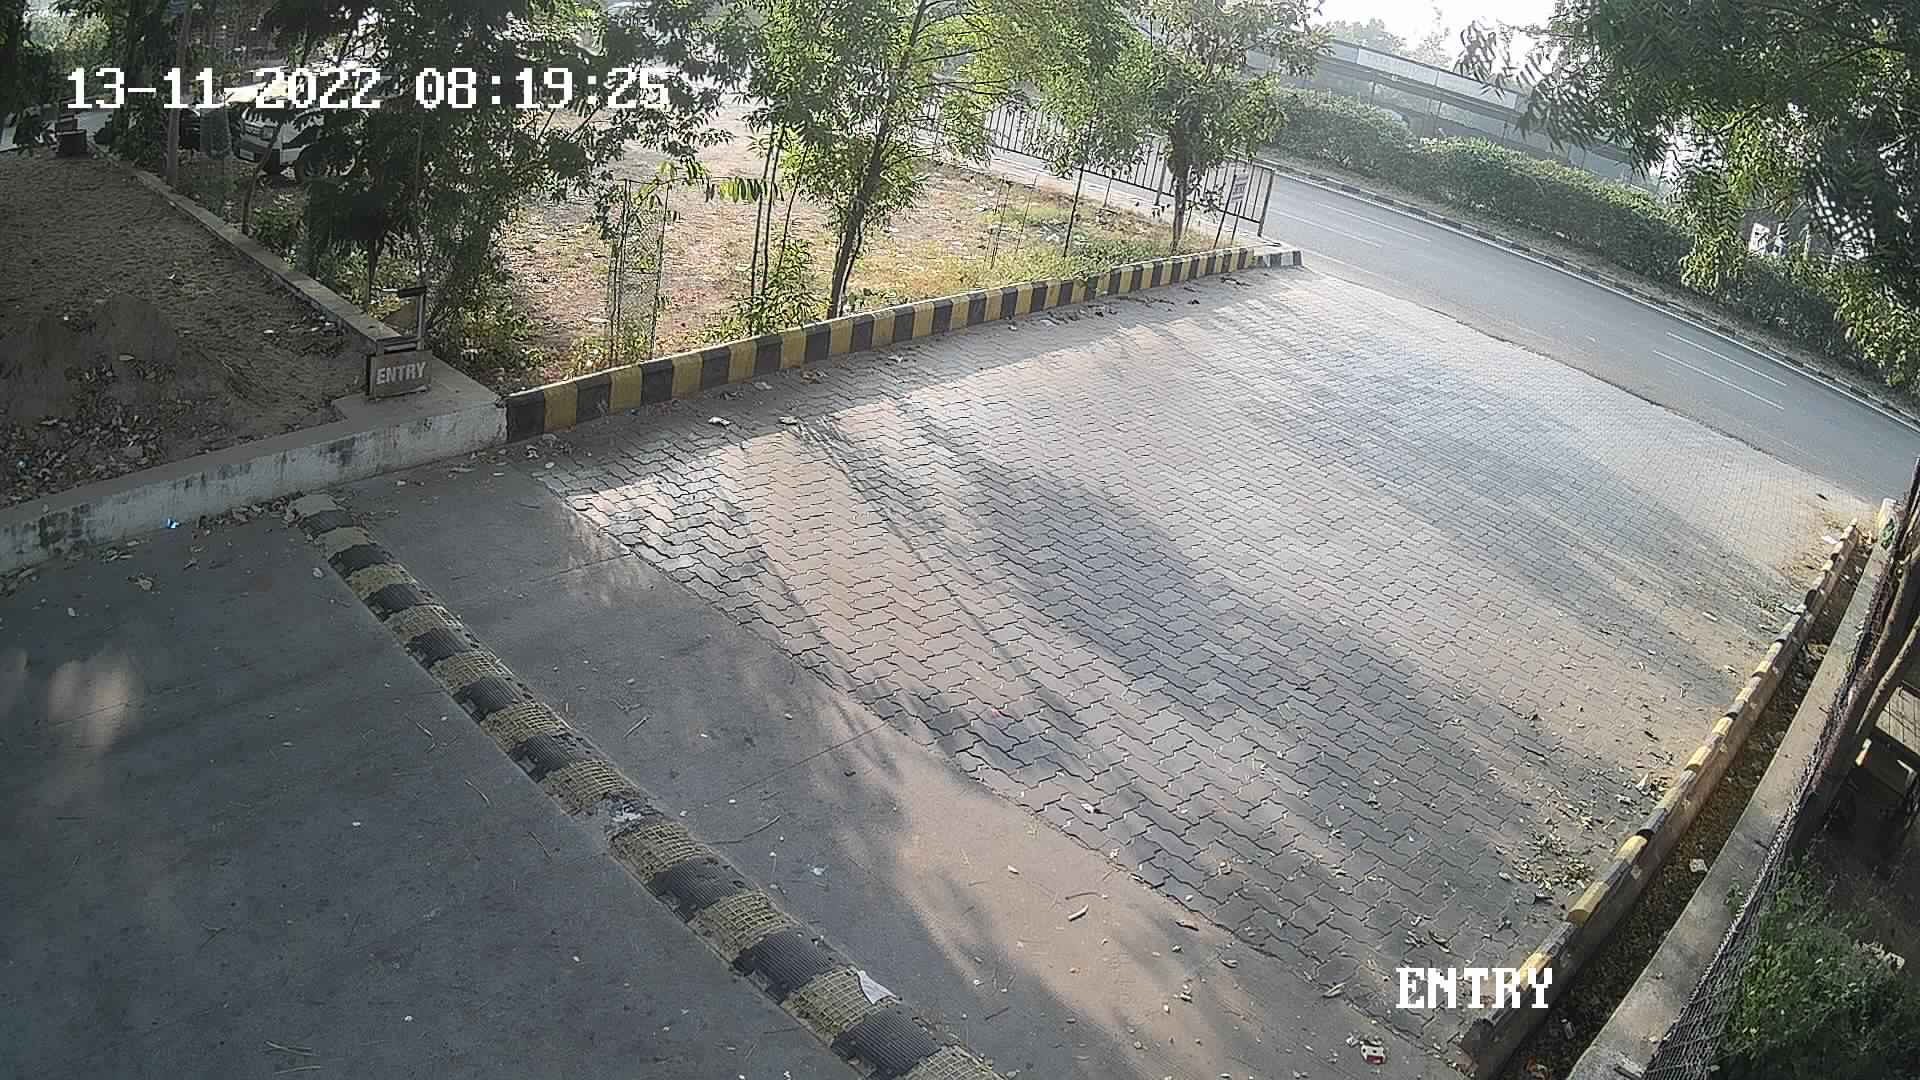Car: (220, 40, 357, 187)
